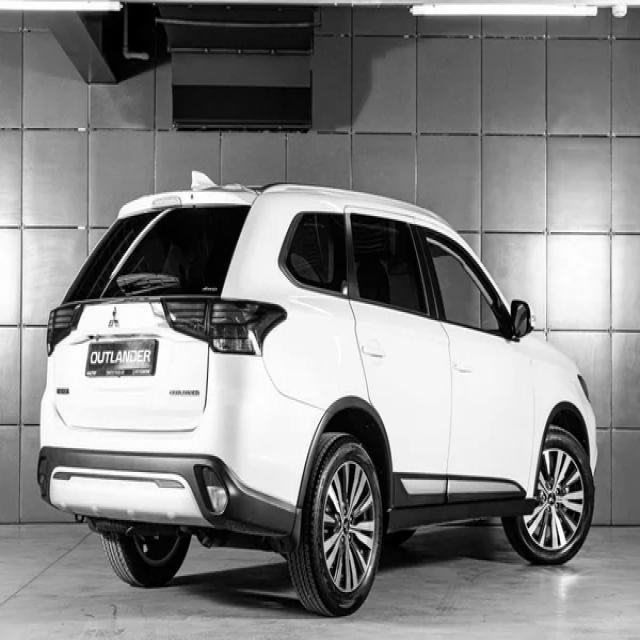Car: (36, 172, 598, 618)
